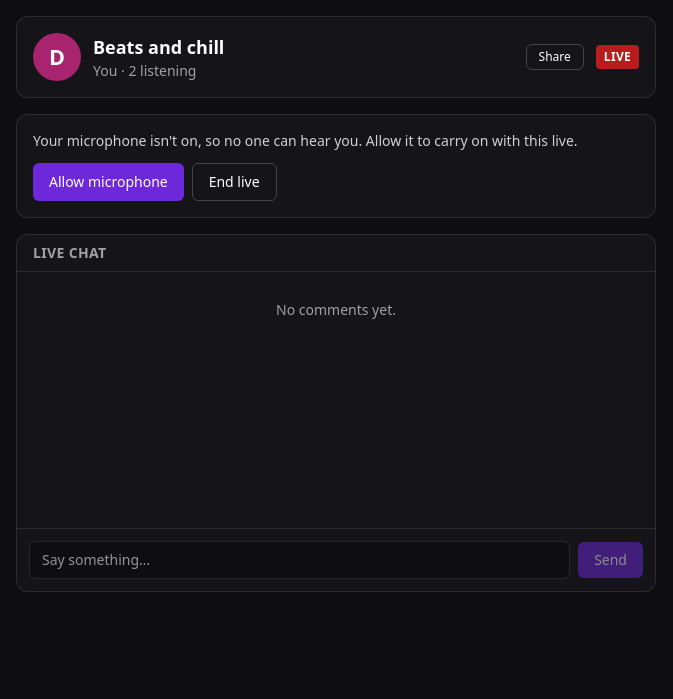
LiveRoomPage: as the host › asks for the microphone again after a page reload, since the stream doesn't survive one
The image size is (673, 699).
Expected: the text "microphone isn.t on" is shown, [33,131,578,150]
Click the button "Allow microphone": coordinates (108, 182) [33,163,184,201]
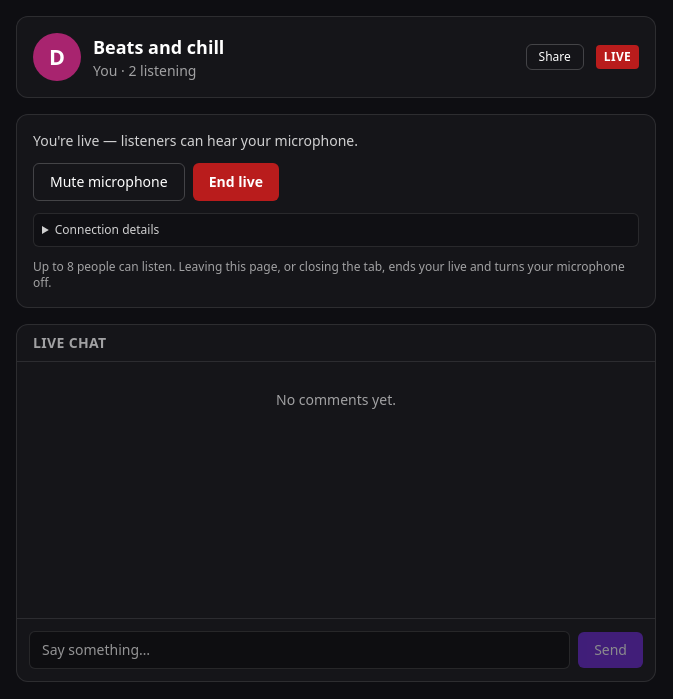
Expected: the text "You're live — listeners can hear your microphone." is shown, [33,131,358,150]
